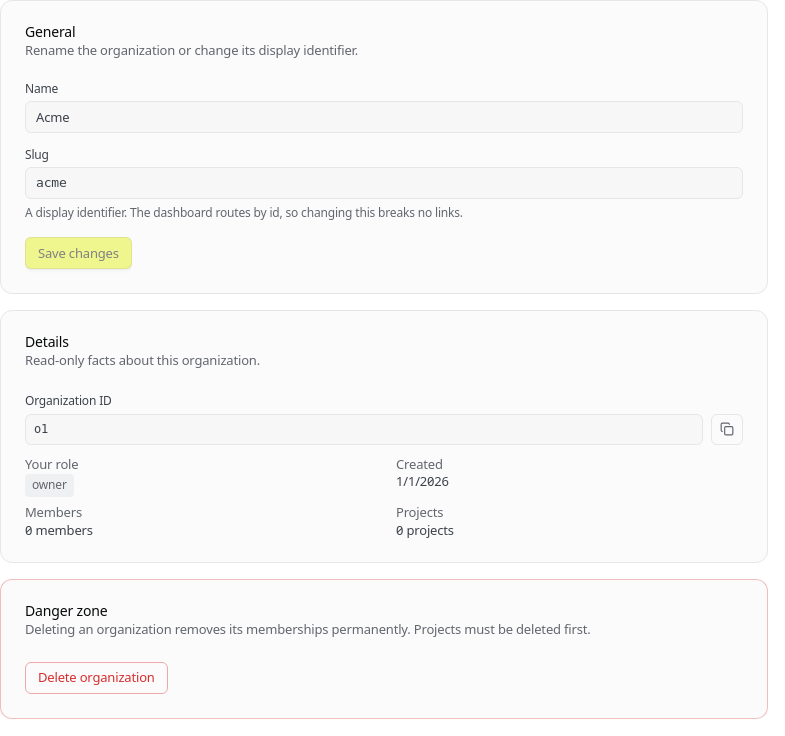
Test: OrgSettingsPanel › disables Save until something actually changes
Expected: the button "Save changes" is disabled, [25,237,132,269]
Type " Corp" into the field labelled "Name" at (384, 117), box [25,101,743,133]
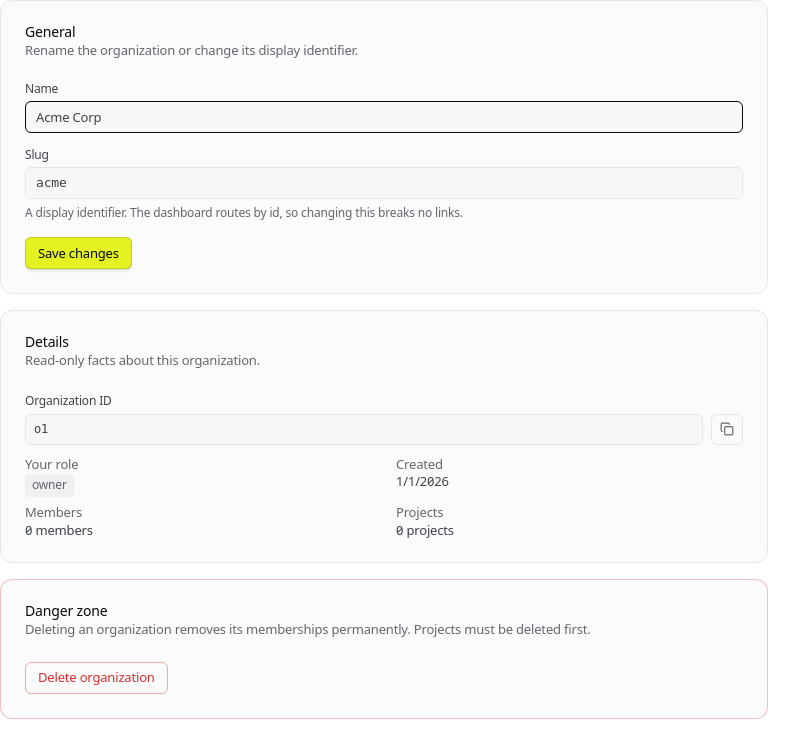
Expected: the button "Save changes" is enabled, [25,237,132,269]
